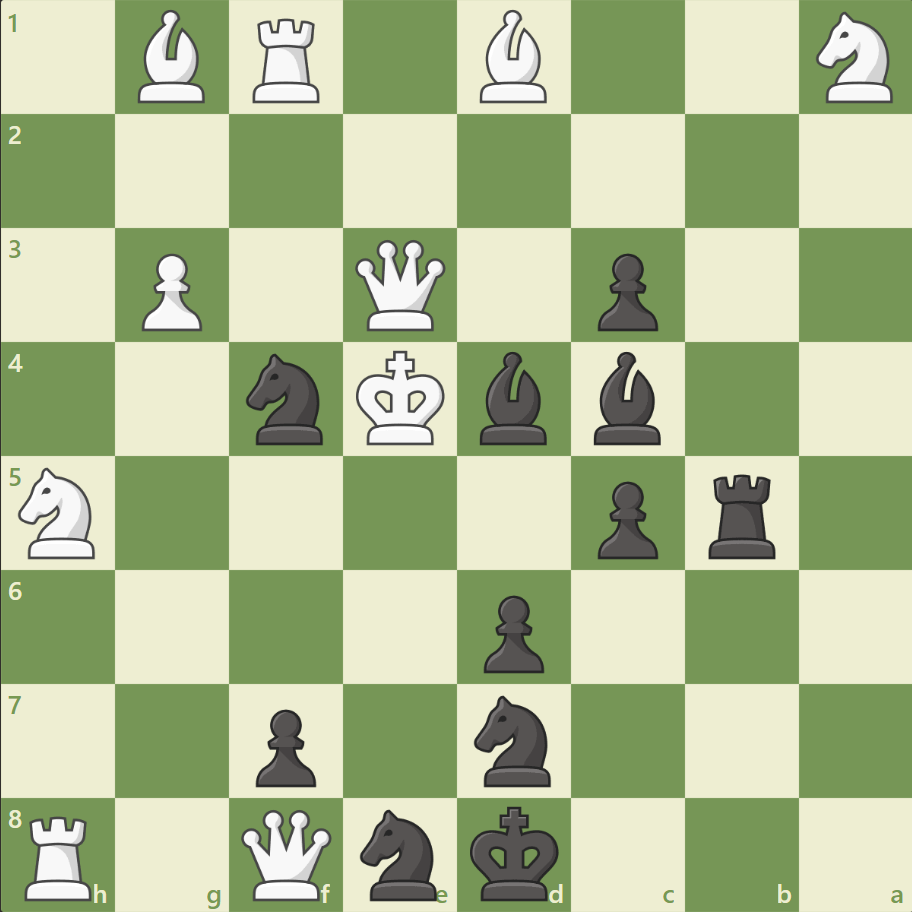B: (471, 6, 555, 109), (131, 6, 215, 109)
K: (351, 344, 451, 452)
N: (11, 461, 108, 564), (806, 7, 903, 110)
P: (133, 246, 208, 337)
Q: (237, 804, 336, 903), (351, 236, 450, 335)
R: (19, 806, 102, 904), (246, 12, 329, 109)
b: (585, 347, 669, 449), (471, 347, 555, 449)
k: (465, 798, 565, 906)
n: (351, 802, 449, 904), (465, 688, 562, 791), (238, 348, 335, 450)
p: (247, 700, 322, 791), (474, 586, 549, 677), (588, 473, 662, 564), (588, 246, 662, 337)
r: (700, 466, 783, 563)
